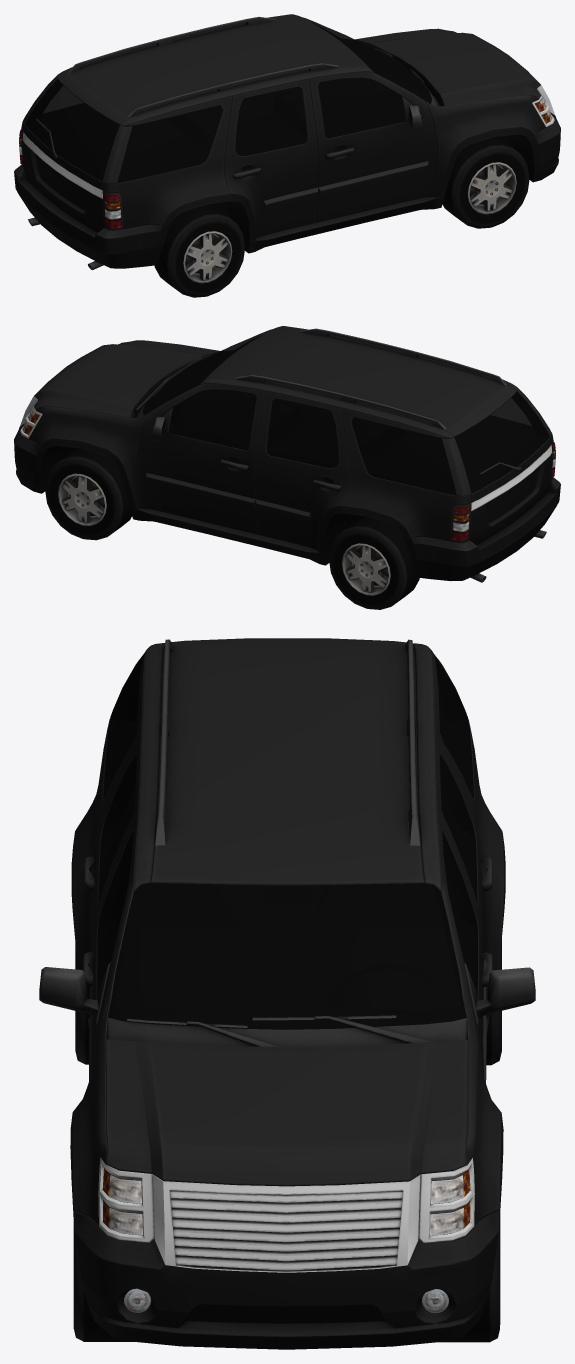
The model's file is SUV.glb.
3 renders of one model, top to bottom at view 1: azimuth 30°, elevation 25°; view 2: azimuth 150°, elevation 25°; view 3: azimuth 270°, elevation 25°, orthographic. The views are drawn at different scales.
Visible parts, largest first — view 1: SUV Body_Glass_0; view 2: SUV Body_Glass_0; view 3: SUV Body_Glass_0.
Part boxes in pixels (<box>): SUV Body_Glass_0: <box>14,14,560,297</box>; SUV Body_Glass_0: <box>14,326,560,609</box>; SUV Body_Glass_0: <box>39,638,535,1349</box>.
Size of the model in its own units: 4.61 by 1.73 by 2.07.
4 materials, 3 textured.
